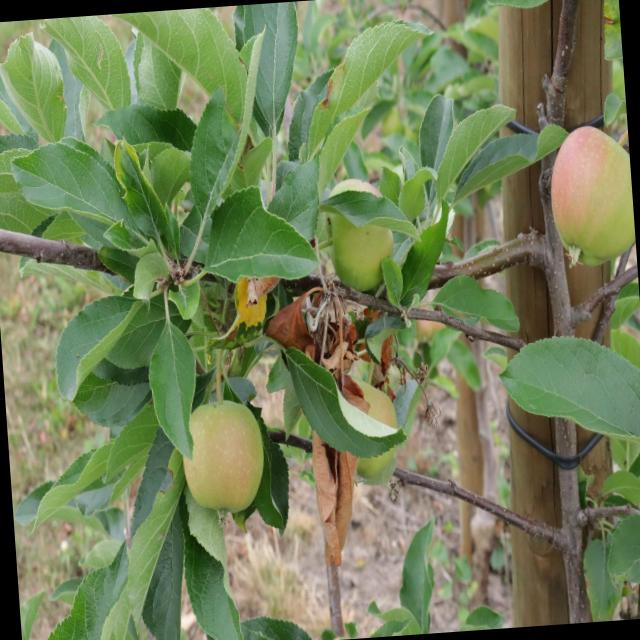-FireBlight-: (276, 287, 380, 568)
